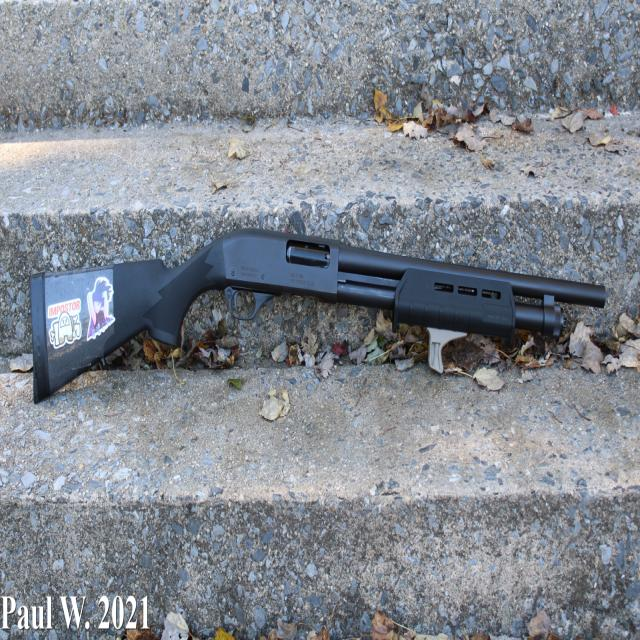ShotGun: (29, 230, 608, 405)
